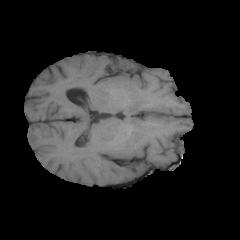glioma: (72, 56, 135, 107)
